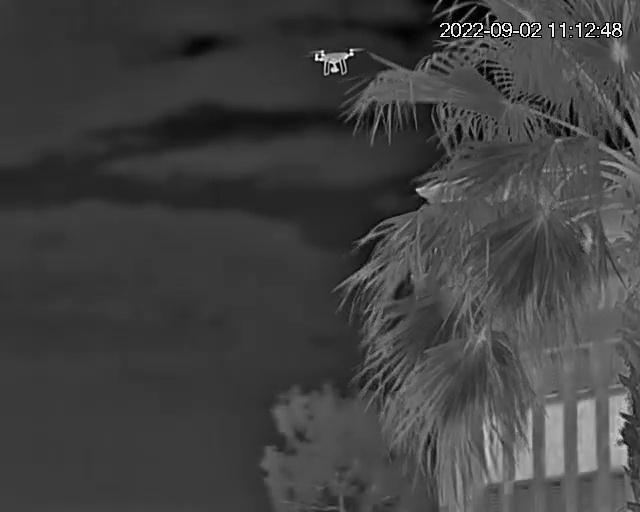DJI-Phantom: (312, 46, 363, 77)
